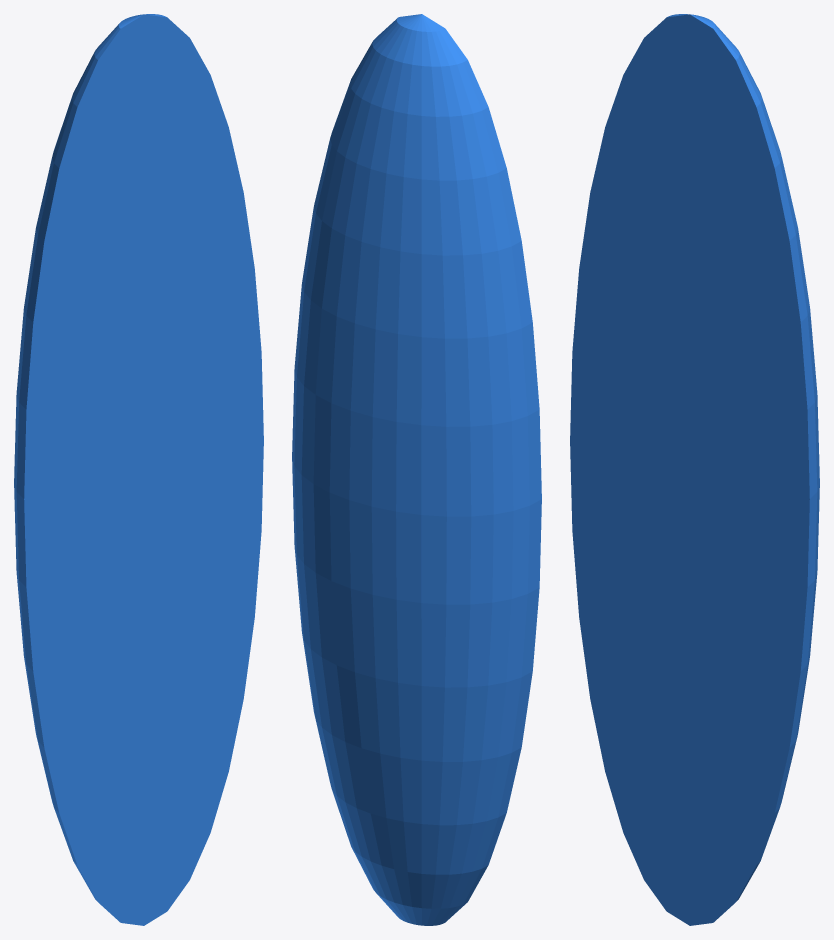
File: upperarm.dae
3 views of the same model, side by side, from view 1: azimuth 30°, elevation 25°; view 2: azimuth 150°, elevation 25°; view 3: azimuth 330°, elevation 25° (orthographic).
Parts seen in each view (by area): view 1: Sphere.001; view 2: Sphere.001; view 3: Sphere.001.
Part boxes in pixels (x1,y1,x2,y2): Sphere.001: (14,14,263,925); Sphere.001: (292,14,541,925); Sphere.001: (570,14,819,925).
Bounding box in the file's own units: 0.2753 × 0.1 × 1.
